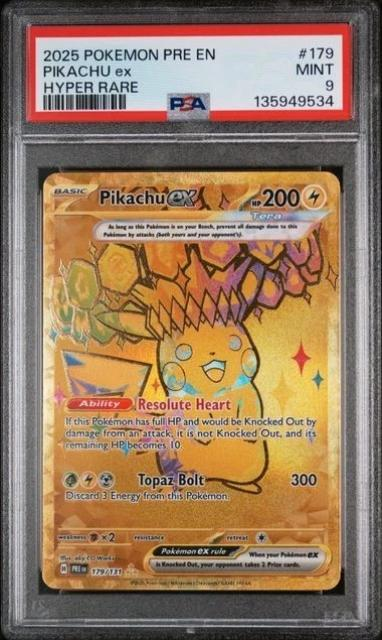Card: (39, 167, 346, 597)
Name: (94, 186, 203, 211)
